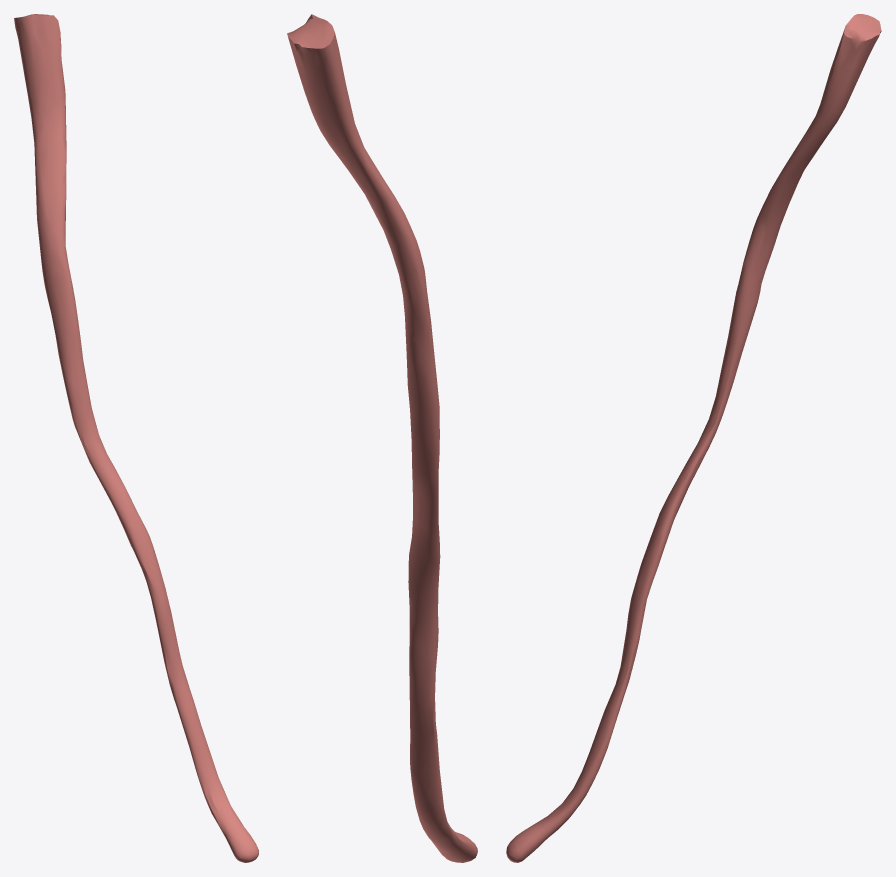
The model's file is fma40750_mm1962.glb.
3 views of the same model, side by side, from view 1: azimuth 30°, elevation 25°; view 2: azimuth 150°, elevation 25°; view 3: azimuth 270°, elevation 25° (orthographic). The views are drawn at different scales.
Visible parts, largest first — view 1: FMA40750_MM1962; view 2: FMA40750_MM1962; view 3: FMA40750_MM1962.
Part boxes in pixels (x1,y1,x2,y2): FMA40750_MM1962: (14,14,258,862); FMA40750_MM1962: (287,14,477,862); FMA40750_MM1962: (506,14,881,862).
Size of the model in its own units: 0.0185 by 0.1305 by 0.0546.
